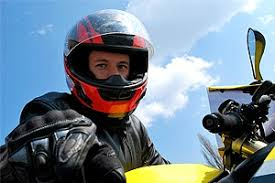helmet: (62, 7, 152, 117)
